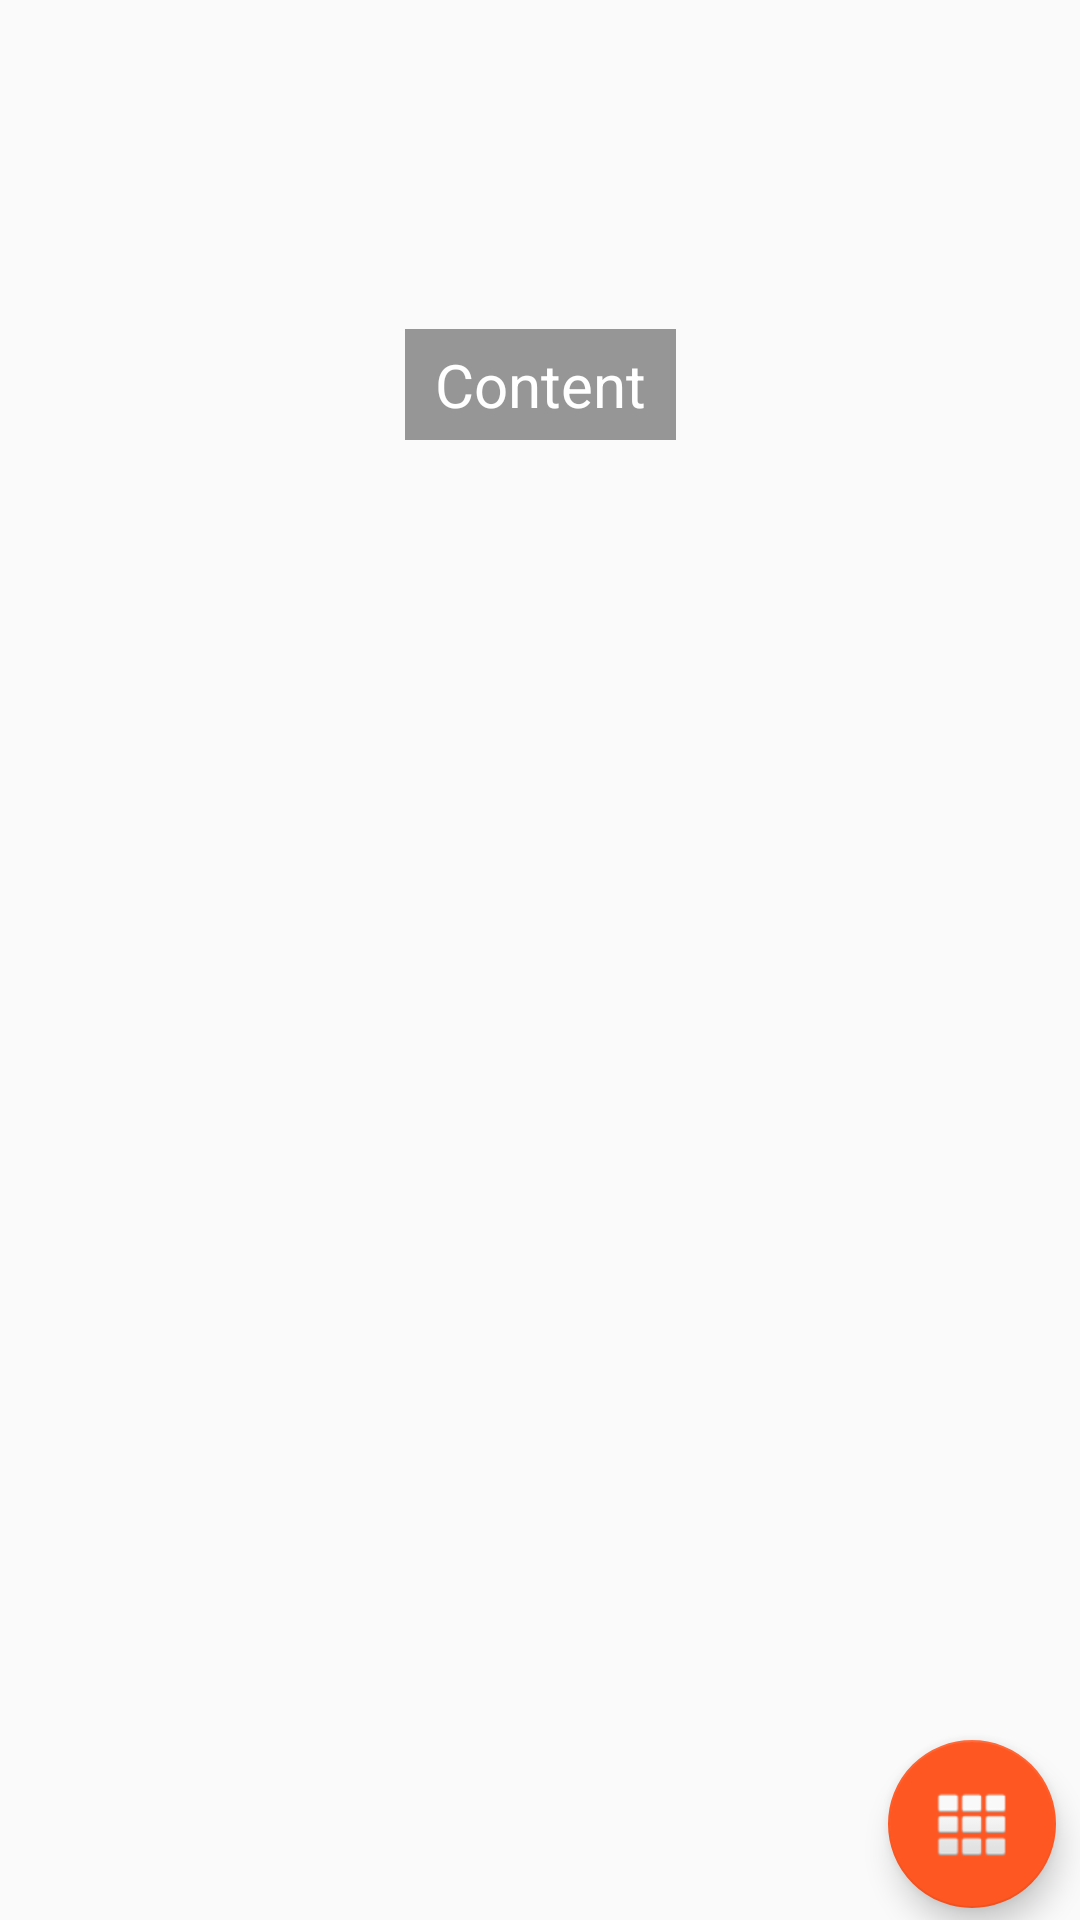

Point at icon controls on the screen. Image size 1080w x 1920h, points as [x,y].
dialer: [972,1824]
